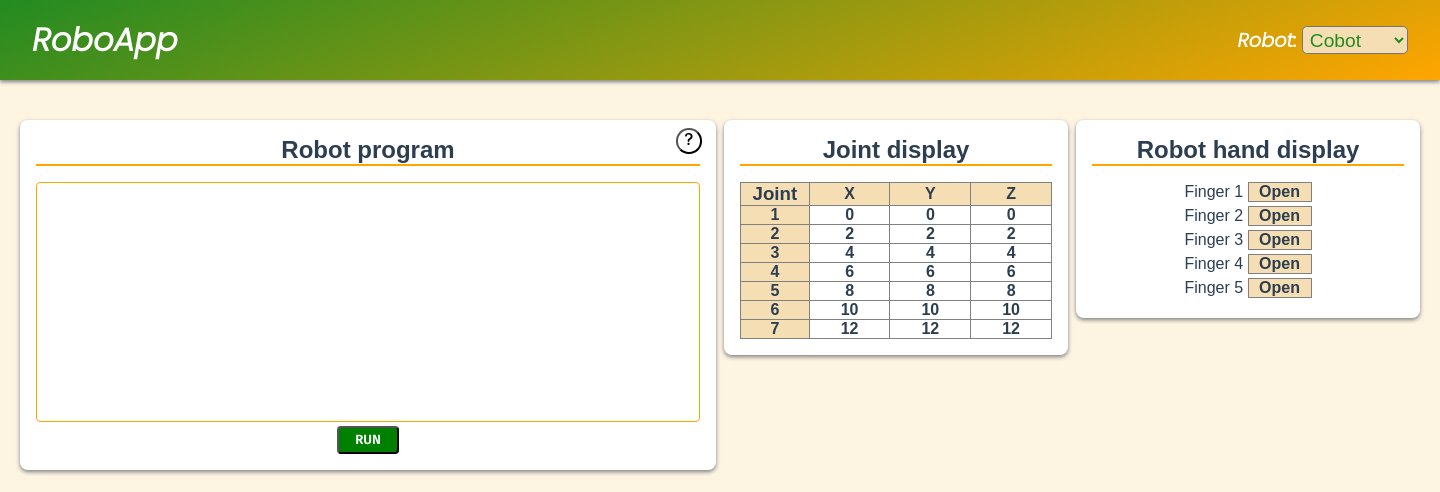
RoboApp test suite › Movement › When not all coordinates are changed, should update only relevant entries
Type "move 2 z88 y77" into the text box at (368, 302), box [36,182,700,422]
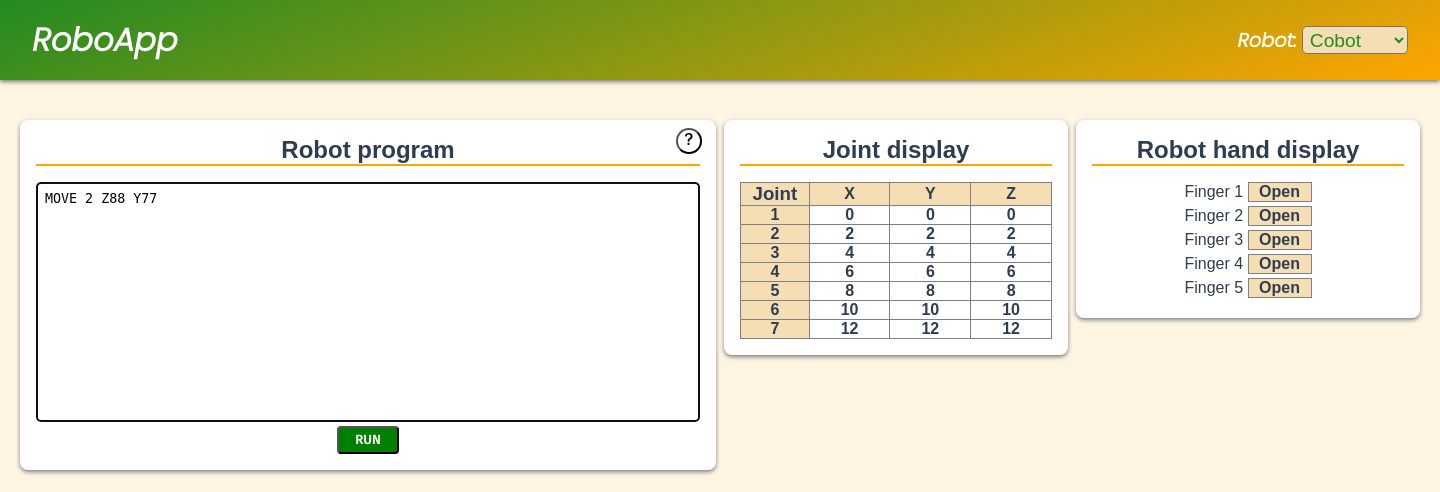
Click the button "Run" at (368, 440), box [337,426,399,454]
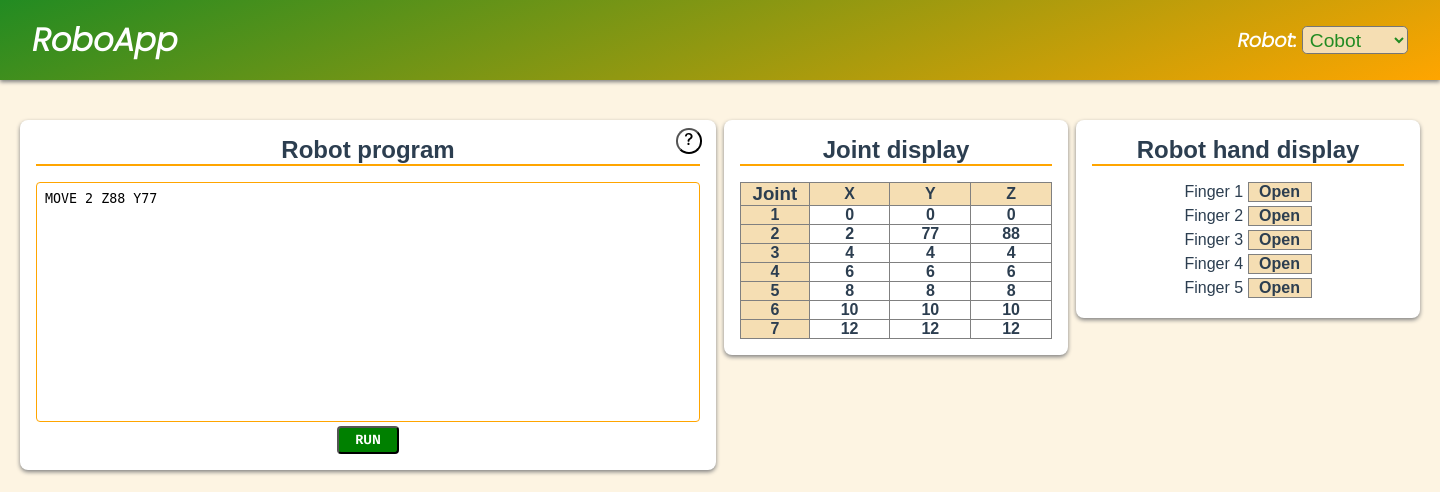
Expected: the 2nd cell "2" is shown, [809,224,890,244]
Expected: the cell "77" is shown, [890,224,971,244]
Expected: the cell "88" is shown, [971,224,1052,244]
